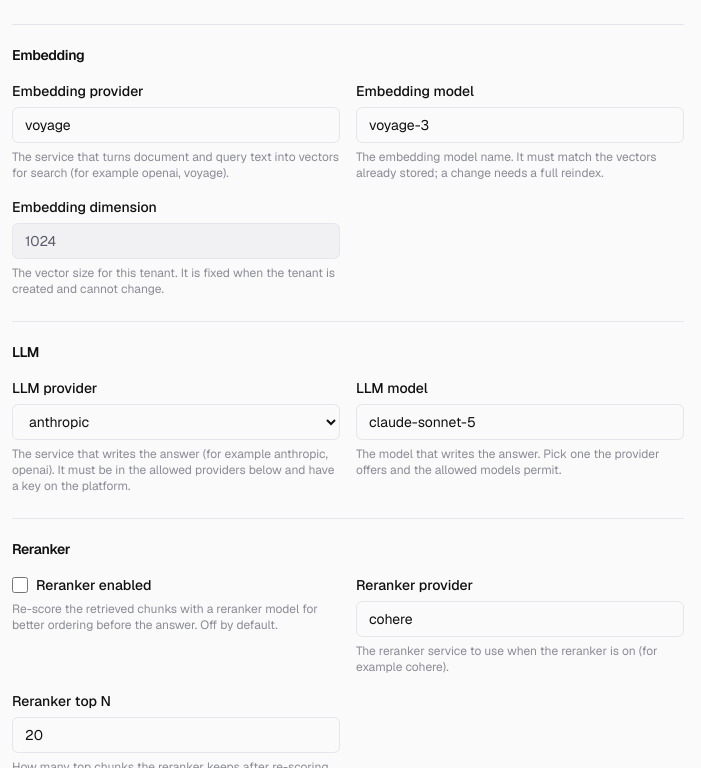
Test: SettingsForm (submit) › shows a saved notice on success
This screenshot has width=701, height=768.
Replace the text in the field labelled "Embedding provider" with "openai" at [176, 125], box [12,107,340,143]
(page scrolled)
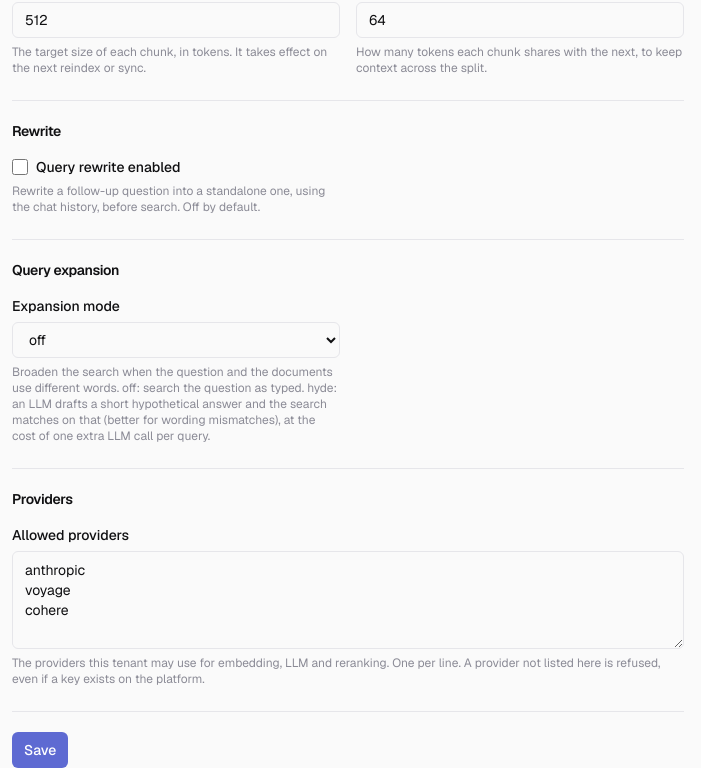
Click the button "Save" at [40, 750], box [12,732,68,767]
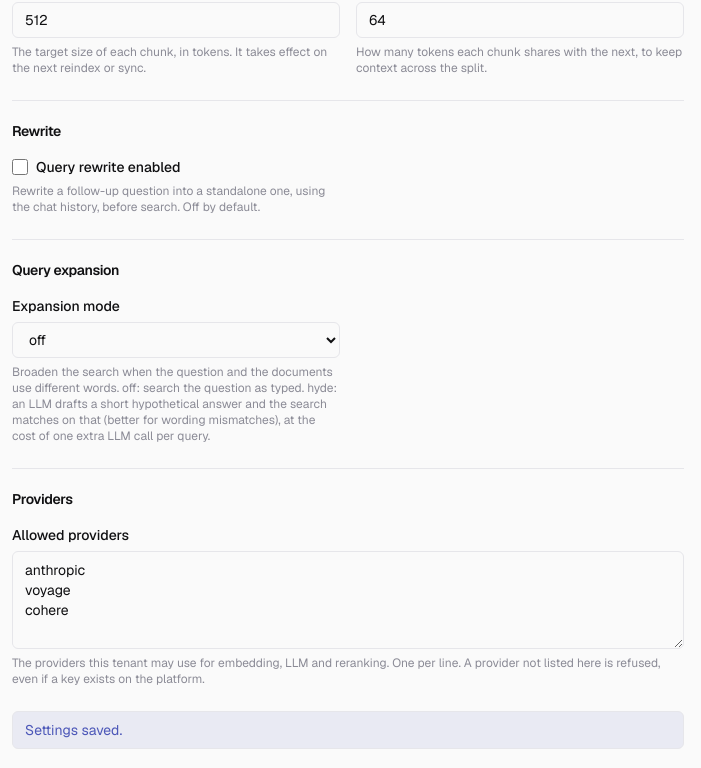
Check: the text "Settings saved." is shown, box [12,711,684,749]
